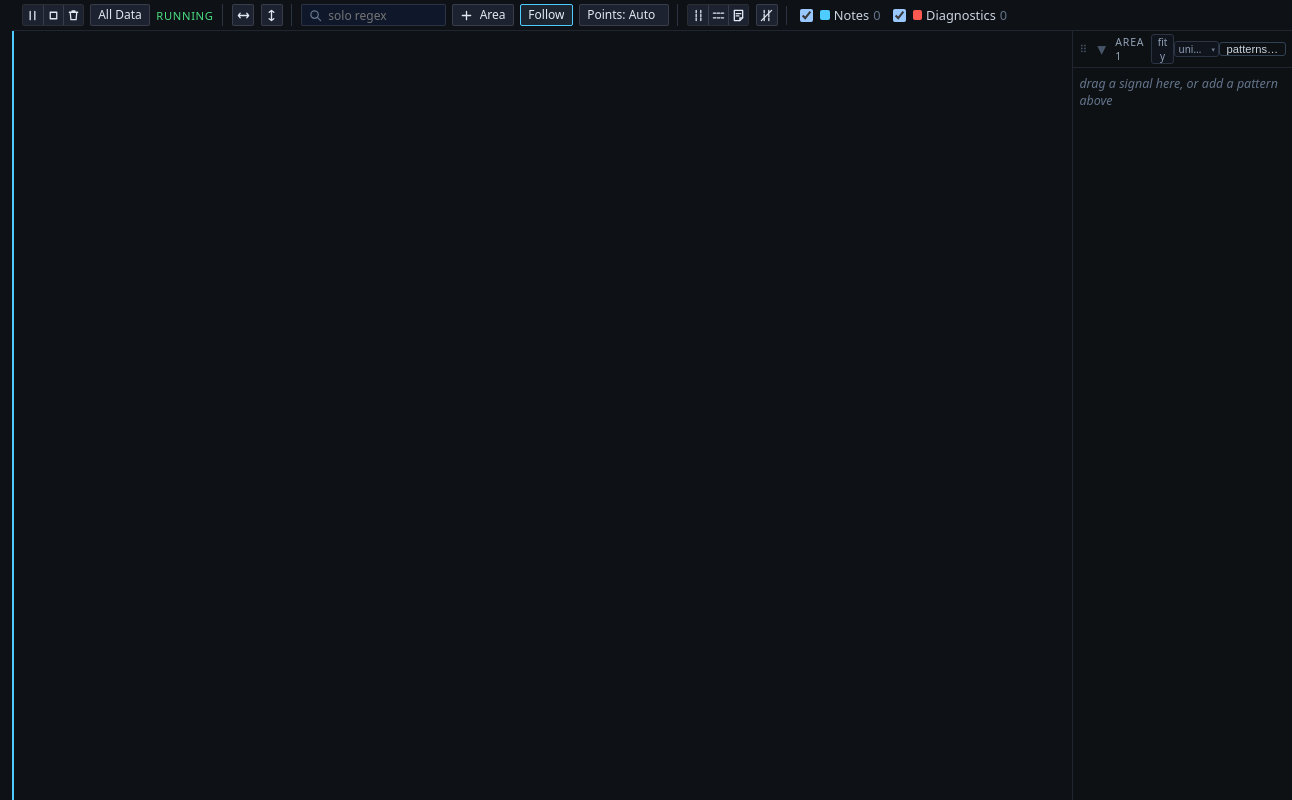
PlotPanel › show-points tri-state defaults to auto and persists to panel params
This screenshot has width=1292, height=800.
// The chip cycles: auto → off → on → auto.
Click the button with aria-label "Show Points" at x=624, y=15, box [579, 4, 669, 26]
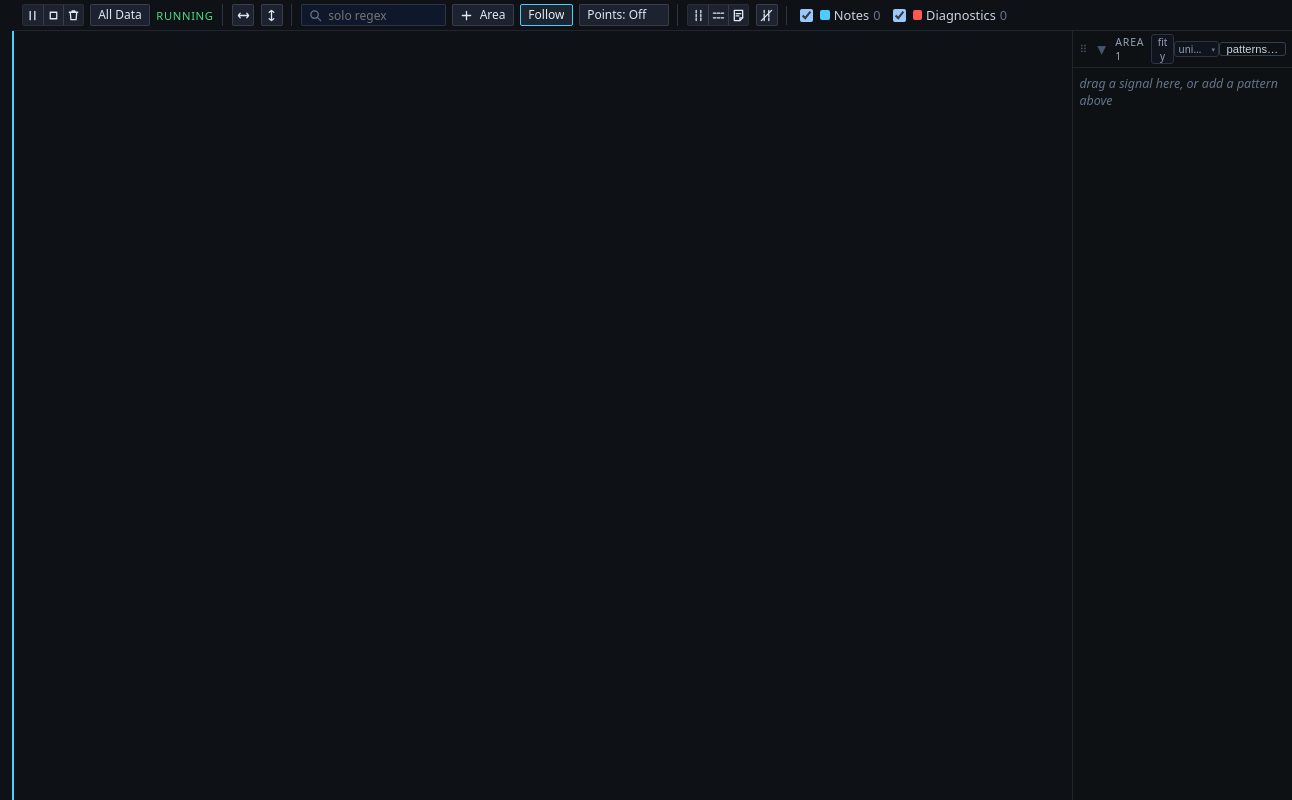
Expected: the text "Points: Off" is shown, [587, 6, 646, 23]
Click the button with aria-label "Show Points" at x=624, y=15, box [579, 4, 669, 26]
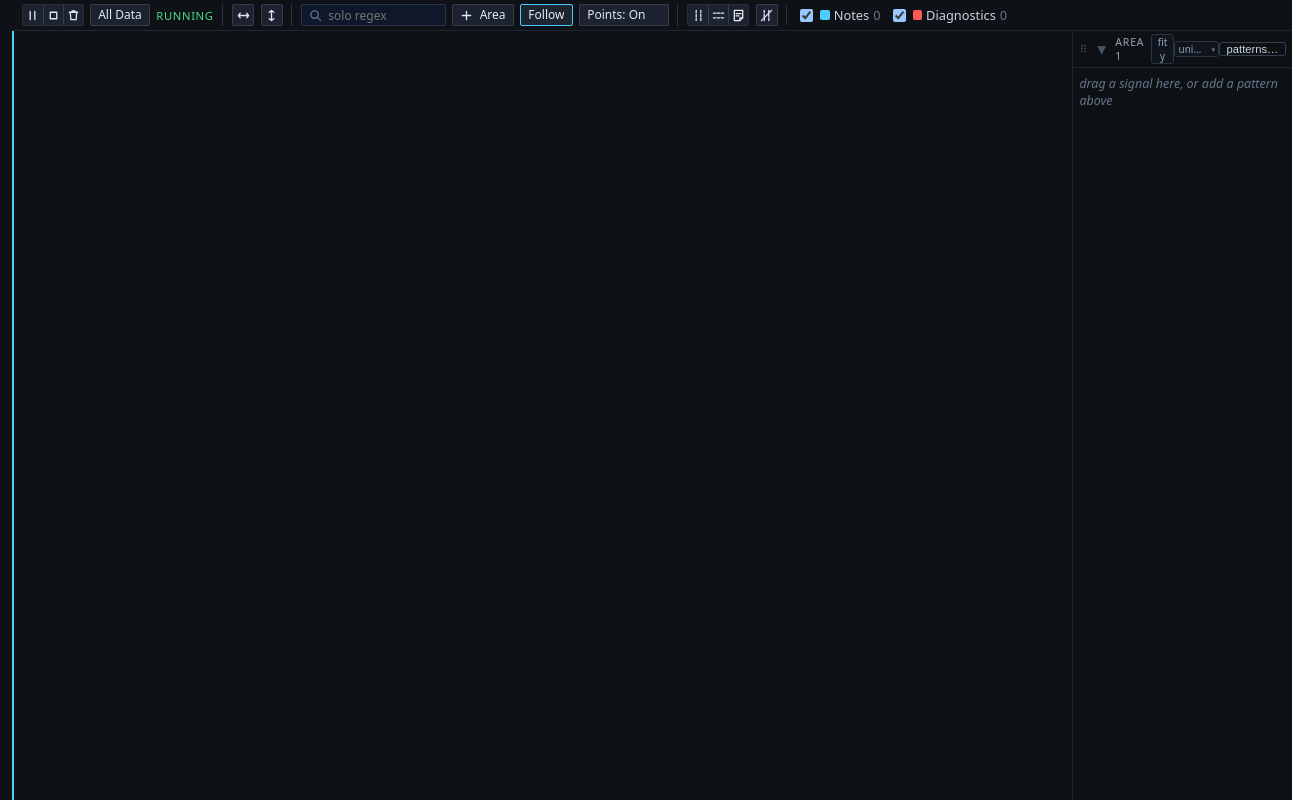
Expected: the text "Points: On" is shown, [587, 6, 646, 23]
